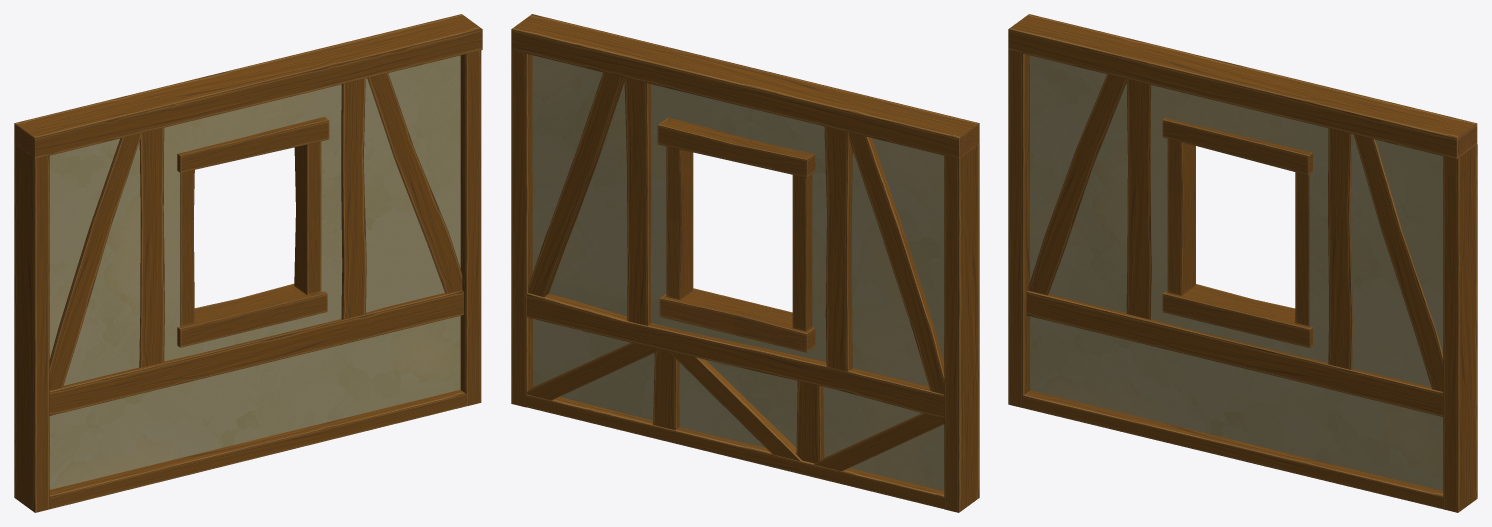
File: SM_House_Wall_5x4_Window_A_03.fbx
The picture shows the model from 3 angles, left to right: view 1: azimuth 30°, elevation 25°; view 2: azimuth 150°, elevation 25°; view 3: azimuth 330°, elevation 25°; orthographic projection.
Parts seen in each view (by area): view 1: SM_House_Wall_5x4_Window_A_03; view 2: SM_House_Wall_5x4_Window_A_03; view 3: SM_House_Wall_5x4_Window_A_03.
Boxes of the visible parts, x1,y1,x2,y2 form: SM_House_Wall_5x4_Window_A_03: [14, 14, 482, 512]; SM_House_Wall_5x4_Window_A_03: [511, 14, 979, 512]; SM_House_Wall_5x4_Window_A_03: [1008, 14, 1477, 512].
Size of the model in its own units: 5 by 4.01 by 0.482.
